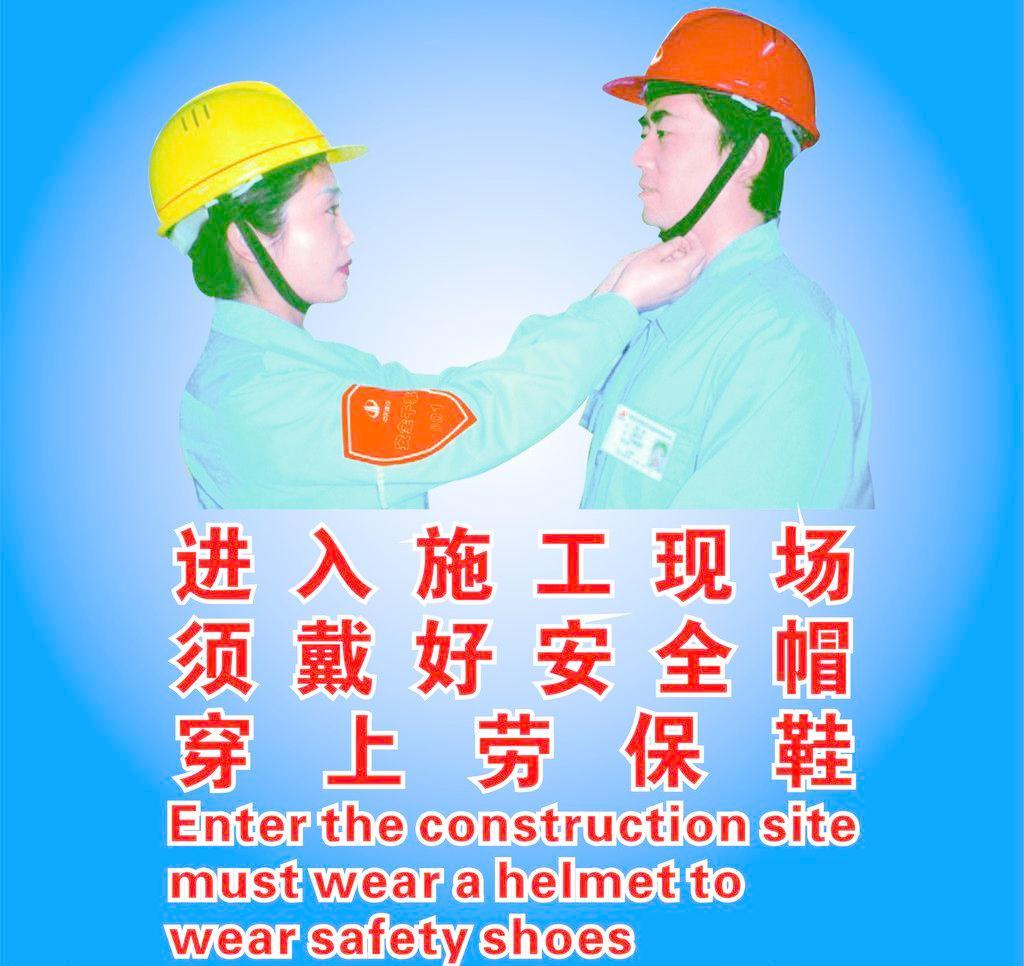helmet: (152, 77, 367, 251), (605, 2, 837, 127)
